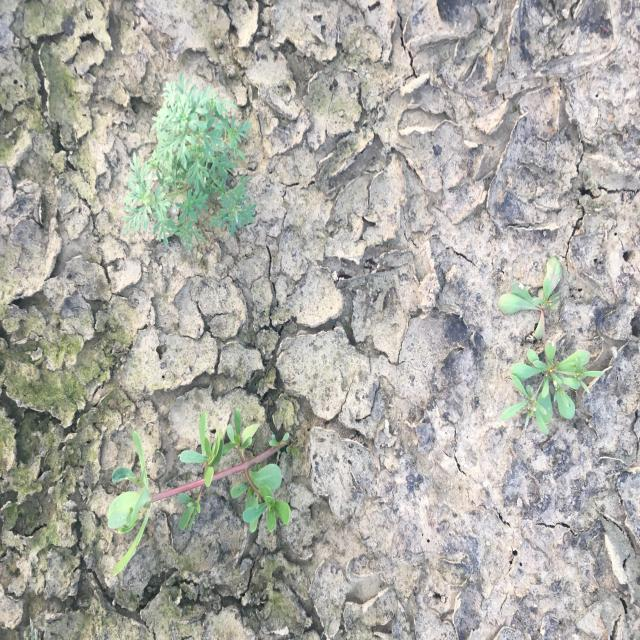Carpetweed: (493, 256, 608, 439)
Purslane: (106, 407, 301, 578)
Ragweed: (120, 70, 258, 250)
